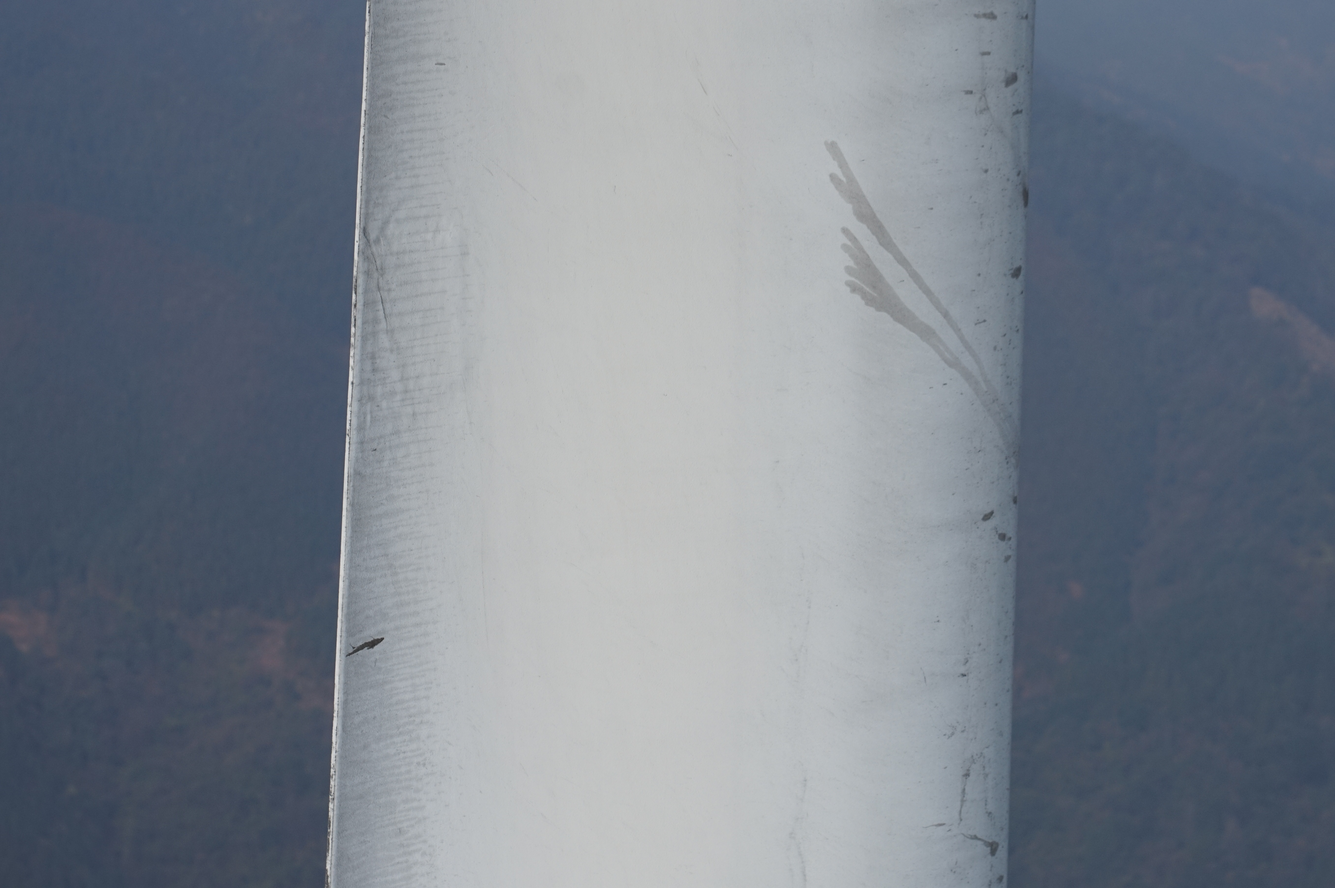Dirt: (344, 637, 385, 658)
